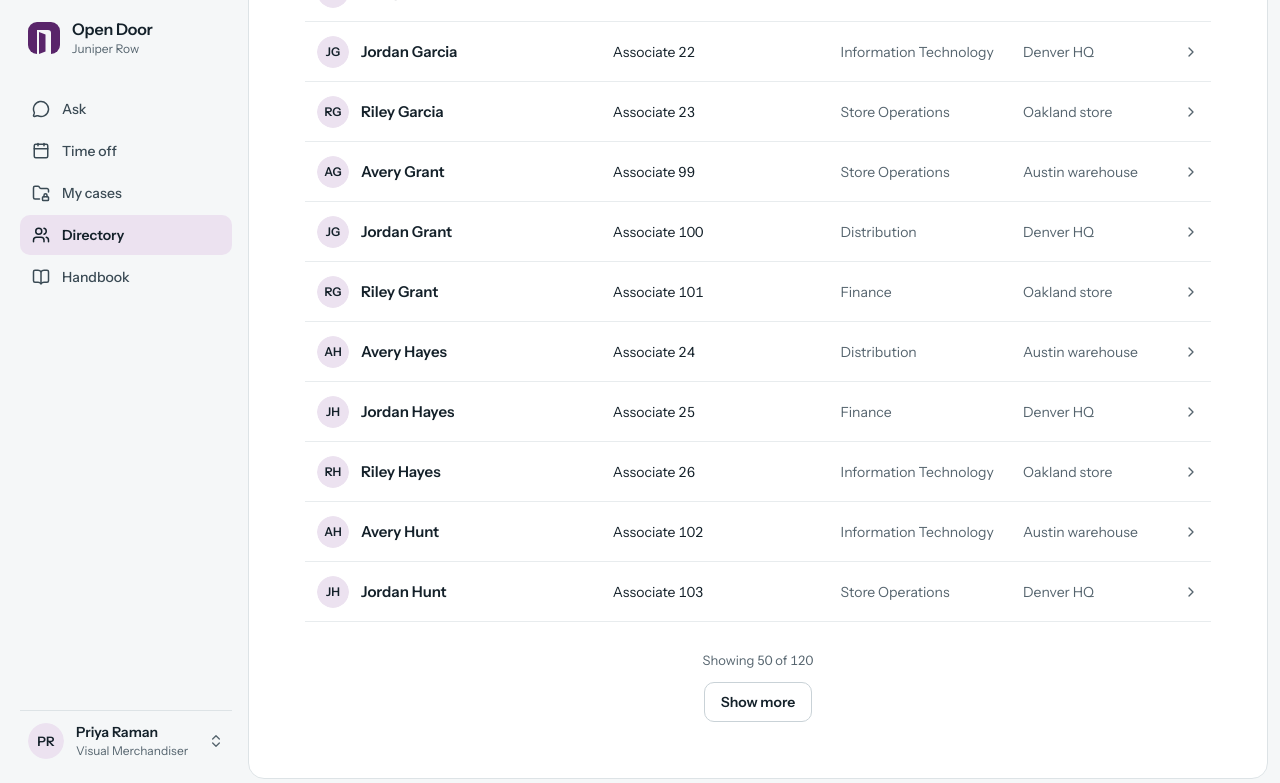
Test: the list › tags the signed-in person's own row "You", and names it with "You"
The image size is (1280, 783).
(page scrolled)
Click the button "Show more" at (758, 702), box [704,682,812,722]
(page scrolled)
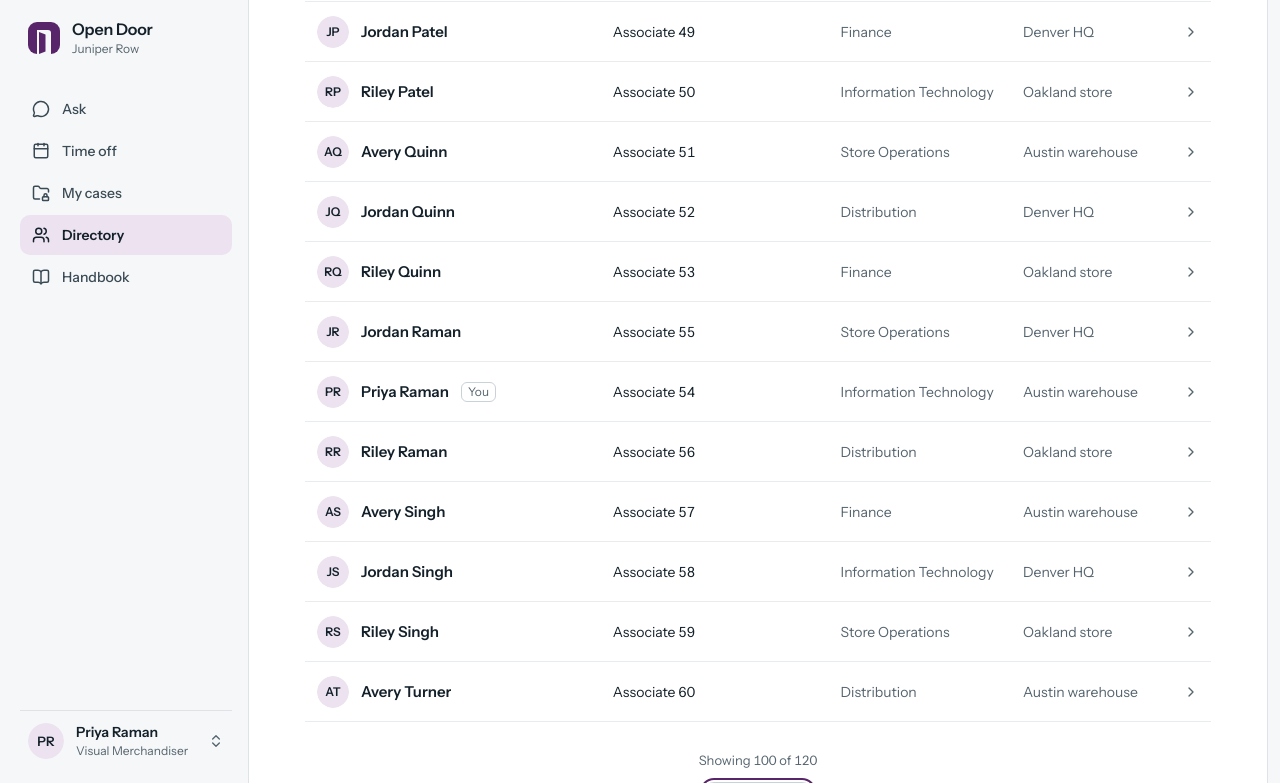
Expected: the text "Showing 100 of 120" is shown, [699,750,817,770]
Expected: the text "You" is shown once, [461,382,496,402]
